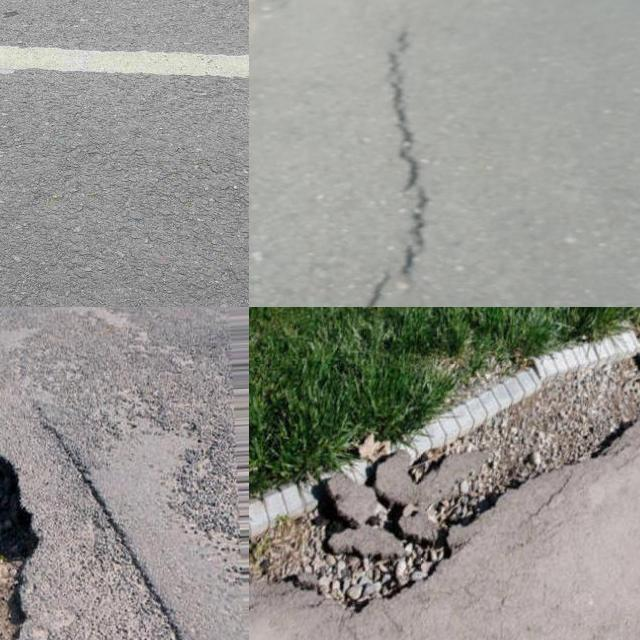Memanjang: (342, 28, 453, 307)
Pinggir: (249, 309, 640, 599)
